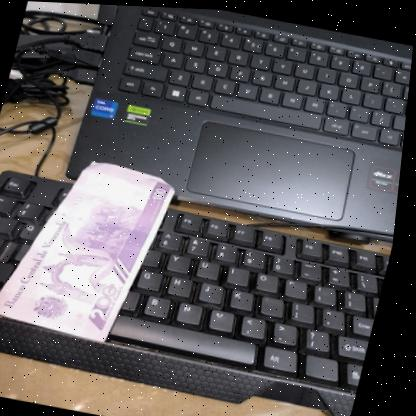vef_back: (0, 146, 184, 347)
